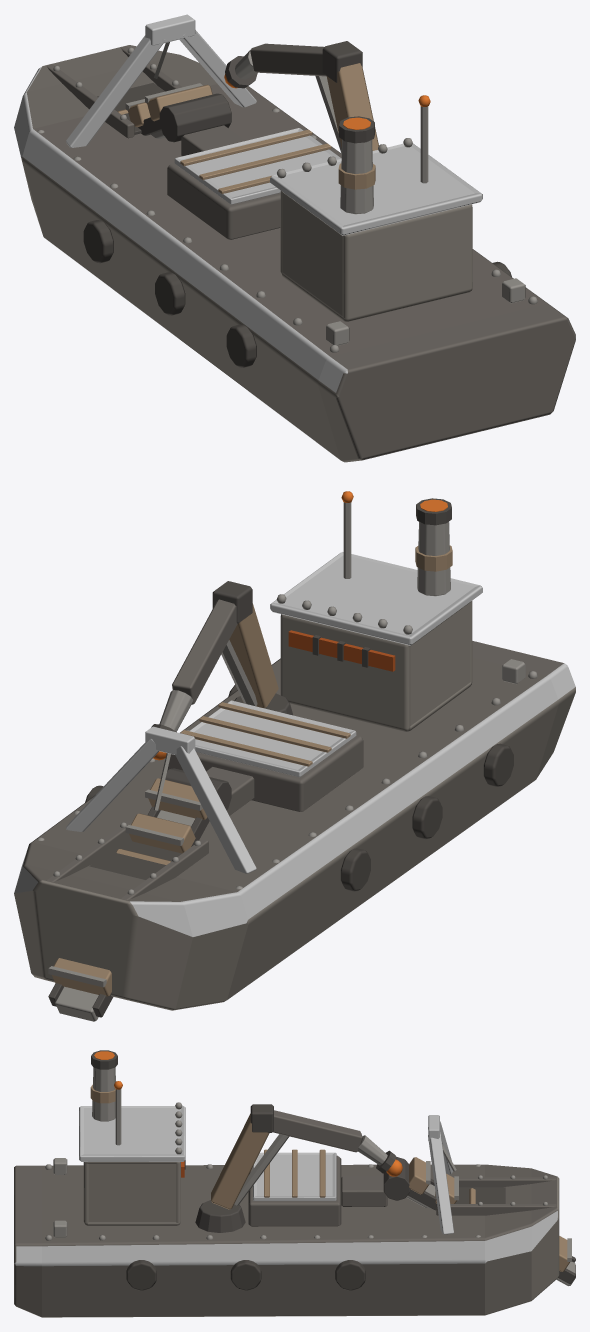
File: crucible_builder_sea.glb
3 views of the same model, one above another, from view 1: azimuth 30°, elevation 25°; view 2: azimuth 150°, elevation 25°; view 3: azimuth 270°, elevation 25° (orthographic). The views are drawn at different scales.
Parts seen in each view (by area): view 1: Body; view 2: Body; view 3: Body.
Part boxes in pixels (x1=…): Body: x1=14, y1=14, x2=575, y2=462; Body: x1=14, y1=491, x2=575, y2=1021; Body: x1=14, y1=1050, x2=575, y2=1317.
Bounding box in the file's own units: 0.98 × 1.03 × 2.42.
